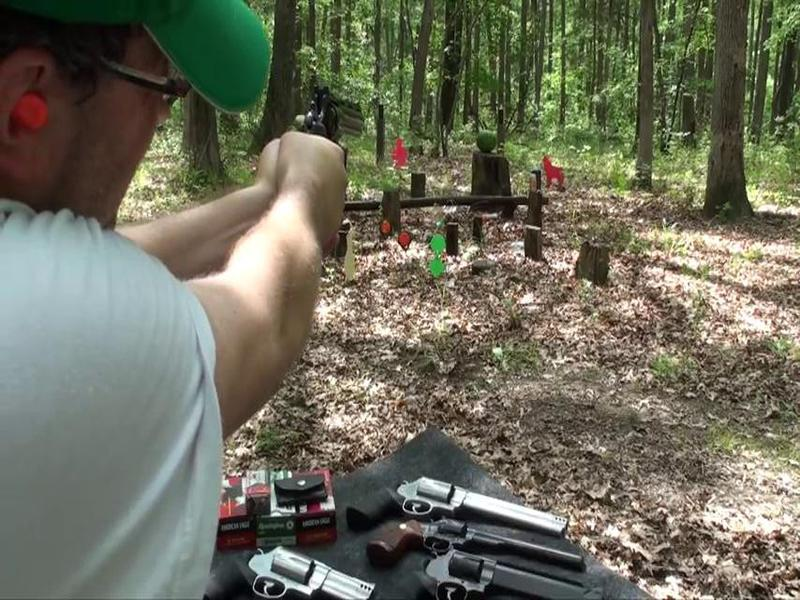Revolver: (277, 72, 379, 159)
